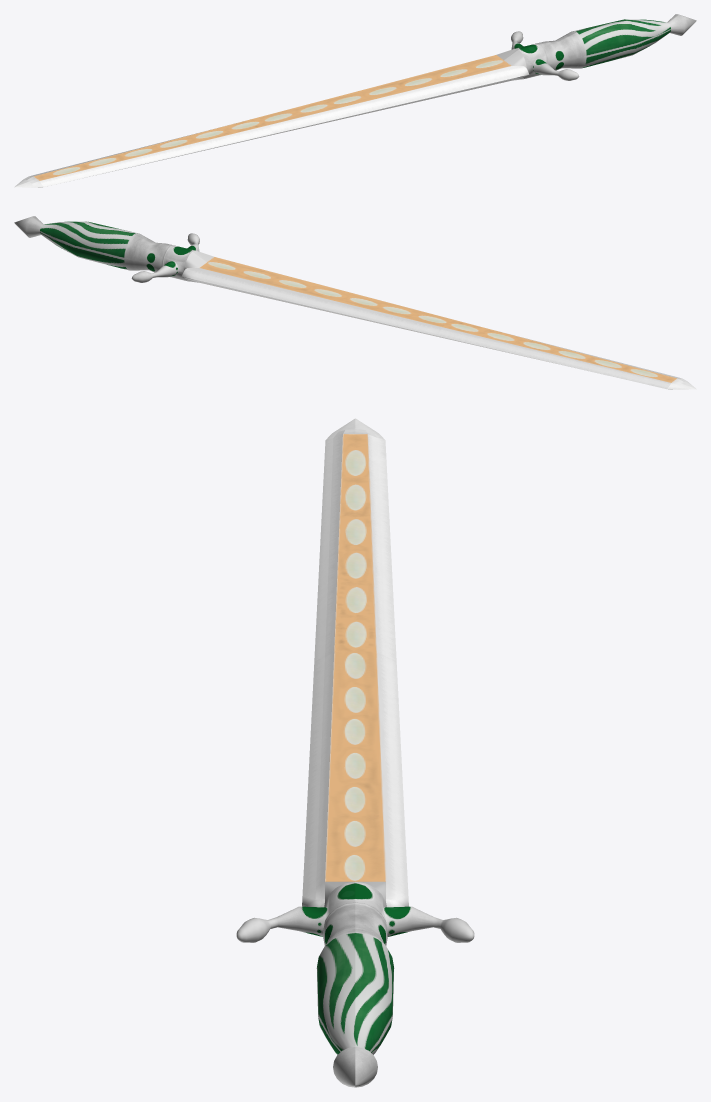
Rendered from VorpalSword.fbx.
3 views of the same model, one above another, from view 1: azimuth 30°, elevation 25°; view 2: azimuth 150°, elevation 25°; view 3: azimuth 270°, elevation 25° (orthographic). The views are drawn at different scales.
Parts seen in each view (by area): view 1: pCylinder5; view 2: pCylinder5; view 3: pCylinder5.
Boxes of the visible parts, x1,y1,x2,y2 form: pCylinder5: (14,14,696,187); pCylinder5: (14,216,696,389); pCylinder5: (236,418,474,1087).
Size of the model in its own units: 102 by 5.02 by 15.43.
